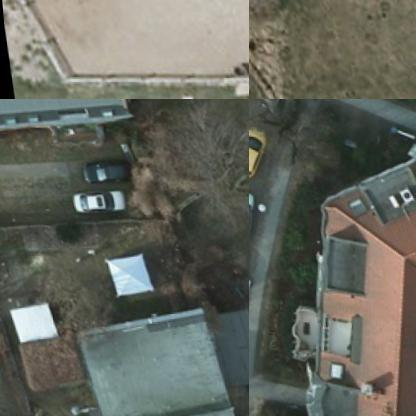car: (66, 180, 124, 214), (78, 154, 130, 186), (249, 118, 265, 175), (249, 99, 289, 118)
